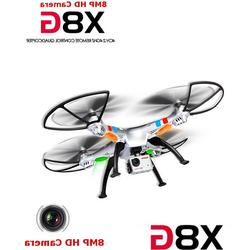drone: (41, 81, 225, 199)
